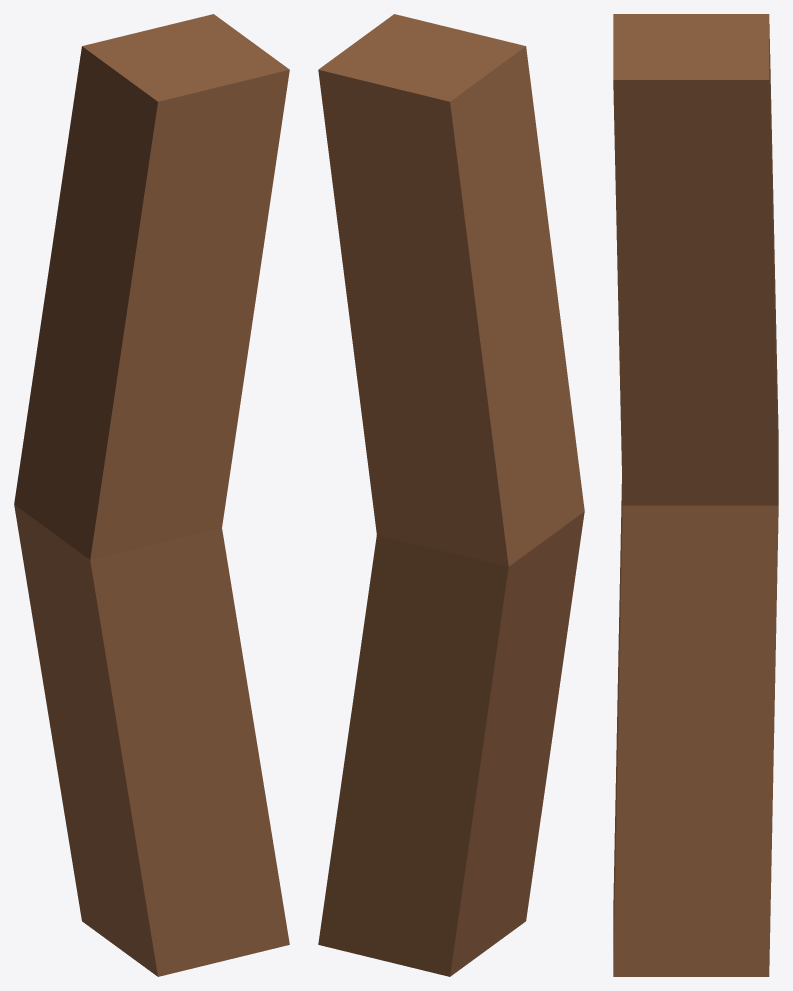
The model's file is tree-winter-trunk-044.glb.
The picture shows the model from 3 angles, left to right: view 1: azimuth 30°, elevation 25°; view 2: azimuth 150°, elevation 25°; view 3: azimuth 270°, elevation 25°; orthographic projection. The views are drawn at different scales.
Visible parts, largest first — view 1: Plane.066_213; view 2: Plane.066_213; view 3: Plane.066_213.
Boxes of the visible parts, x1=… form: Plane.066_213: x1=14, y1=14, x2=289, y2=976; Plane.066_213: x1=318, y1=14, x2=584, y2=976; Plane.066_213: x1=613, y1=14, x2=778, y2=976.
Size of the model in its own units: 0.1741 by 0.7466 by 0.1248.
